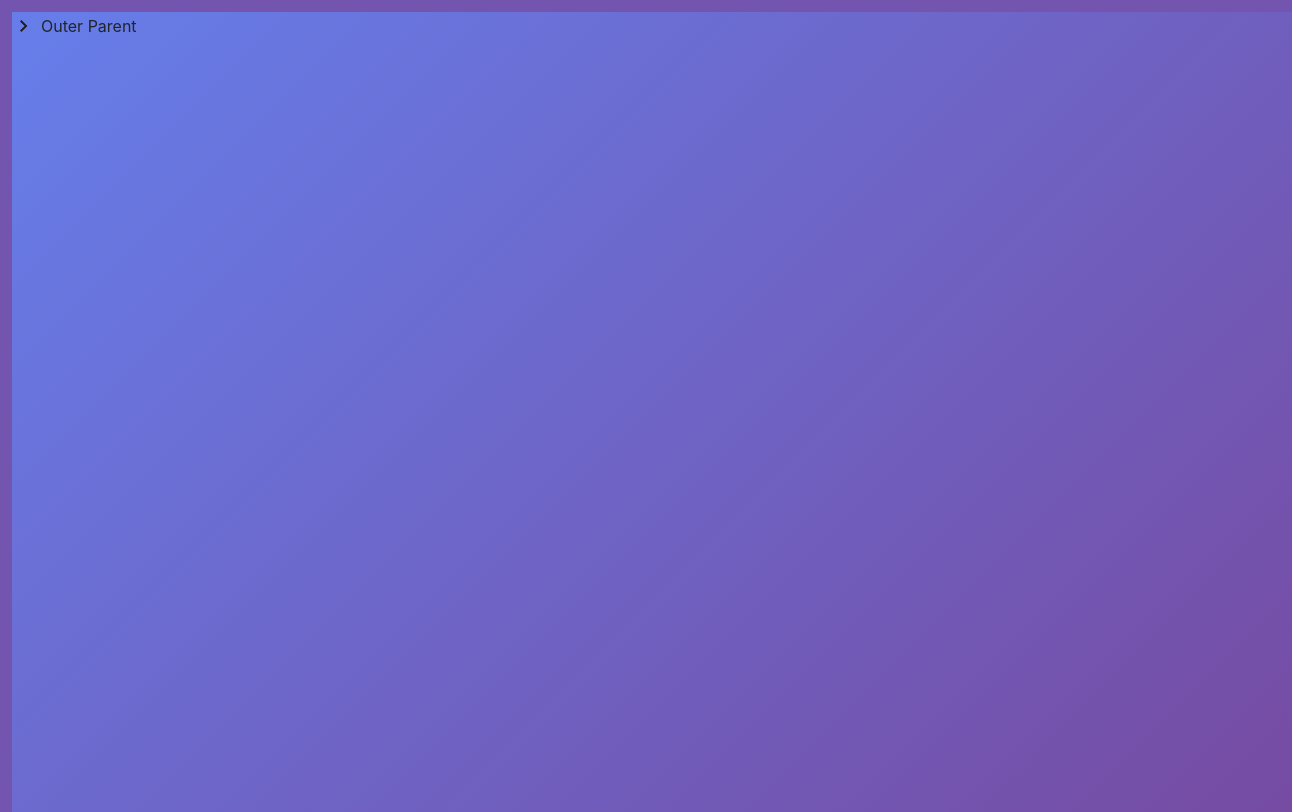
Test: MenuItem › parent with hidden child
expect the text "Inner Child" is not shown: met
Click the text "Outer Parent" at (74, 26), box 12,14 -> 137,38
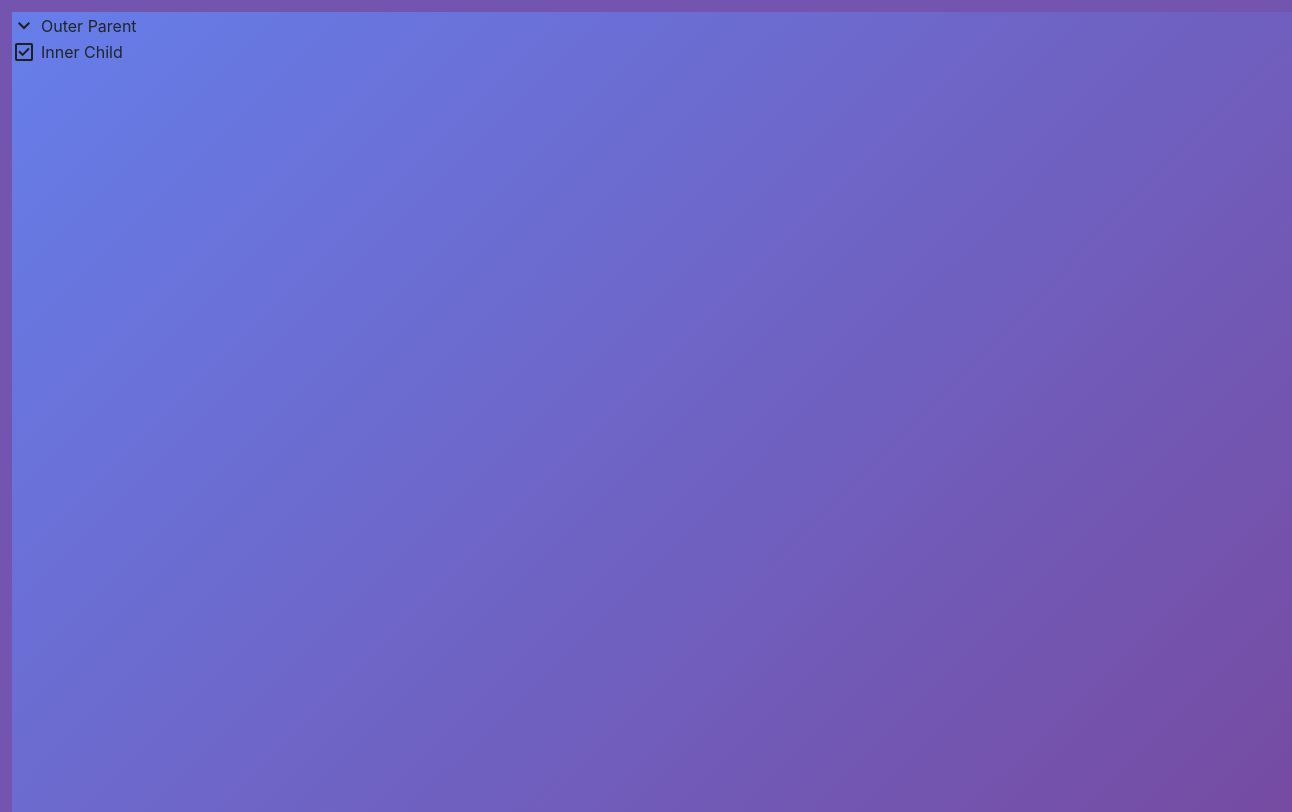
expect the text "Inner Child" is shown: met, box 12,40 -> 123,64
Click the text "Outer Parent" at (74, 26), box 12,14 -> 137,38
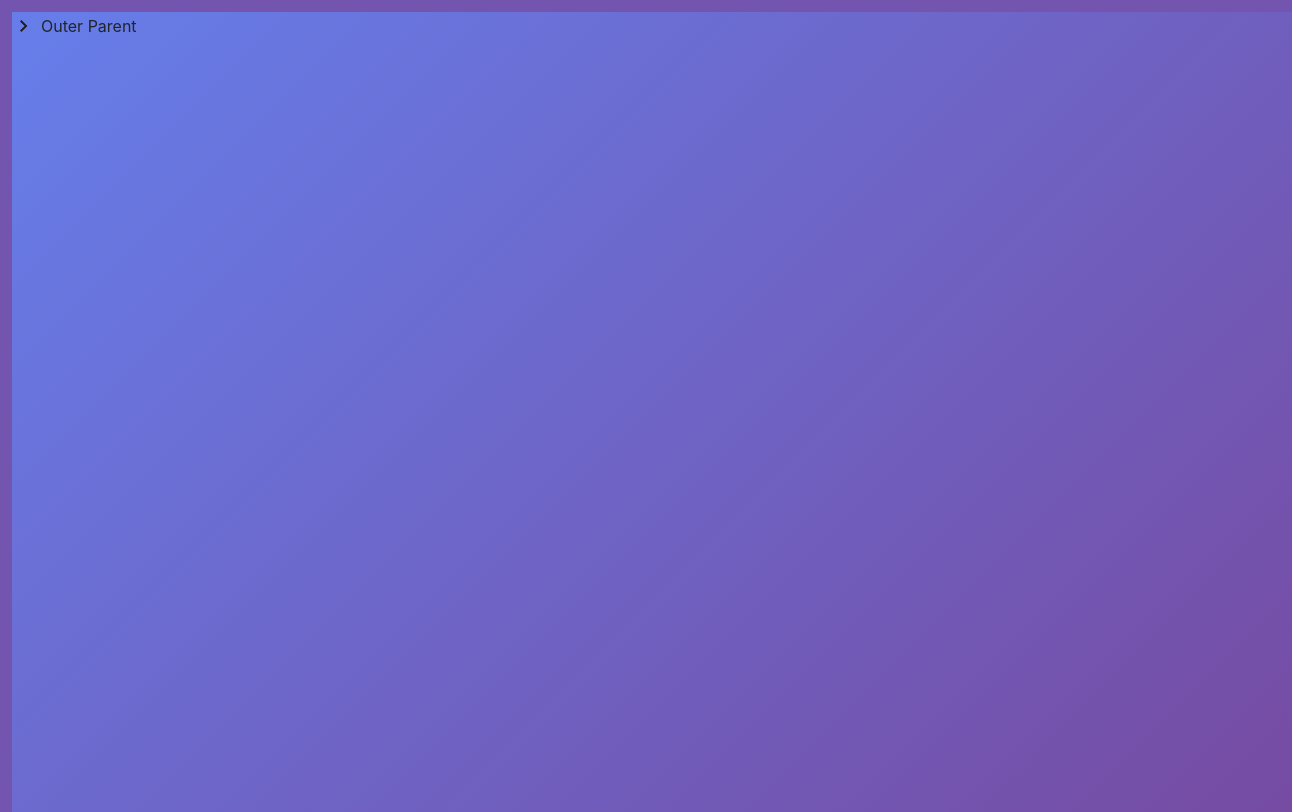
expect the text "Inner Child" is gone: met
